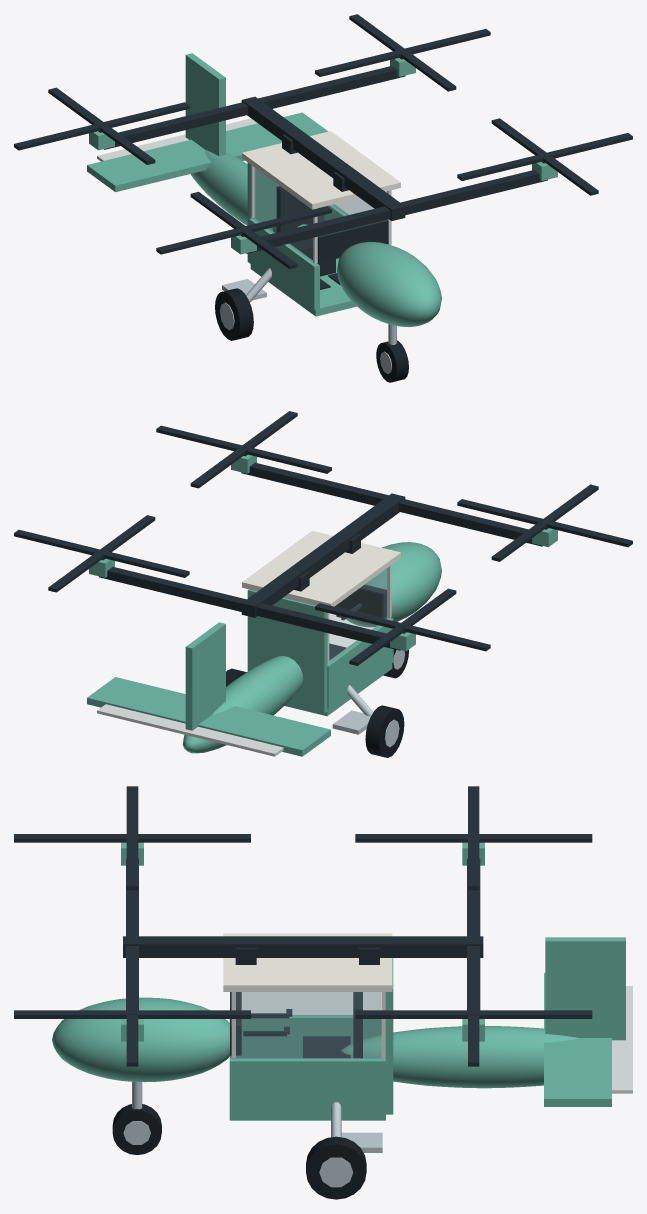
The model's file is multirotor.glb.
3 views of the same model, one above another, from view 1: azimuth 30°, elevation 25°; view 2: azimuth 150°, elevation 25°; view 3: azimuth 270°, elevation 25° (orthographic). The views are drawn at different scales.
Visible parts, largest first — view 1: aircraft-blade (×8), aircraft-rotor-arm (×2), aircraft-nose, aircraft-stabilizer, aircraft-roof, multirotor, aircraft-rotor-spine, aircraft-fin, aircraft-tail, aircraft-side, aircraft-window, aircraft-panel (+5 smaller); view 2: aircraft-blade (×8), aircraft-rotor-arm (×2), aircraft-stabilizer, aircraft-bulkhead, aircraft-roof, multirotor, aircraft-tail, aircraft-rotor-spine, aircraft-fin, aircraft-nose, aircraft-side, aircraft-window (+2 smaller); view 3: aircraft-blade (×8), aircraft-side (×2), aircraft-window (×2), aircraft-nose, aircraft-tail, aircraft-fin, multirotor, aircraft-rotor-spine, aircraft-roof, aircraft-stabilizer, aircraft-rotor-arm (×2), aircraft-elevator-hinge (+4 smaller).
Part boxes in pixels (bbox=[...]): aircraft-blade (×8): bbox=[14, 14, 632, 268]; aircraft-rotor-arm (×2): bbox=[104, 66, 547, 253]; aircraft-nose: bbox=[337, 241, 441, 327]; aircraft-stabilizer: bbox=[87, 112, 328, 192]; aircraft-roof: bbox=[242, 131, 400, 209]; multirotor: bbox=[215, 165, 408, 382]; aircraft-rotor-spine: bbox=[241, 96, 405, 220]; aircraft-fin: bbox=[185, 53, 225, 156]; aircraft-tail: bbox=[190, 149, 307, 232]; aircraft-side: bbox=[249, 218, 319, 309]; aircraft-window: bbox=[254, 167, 312, 261]; aircraft-panel: bbox=[317, 220, 388, 262]; aircraft-blade (×8): bbox=[14, 411, 632, 665]; aircraft-rotor-arm (×2): bbox=[99, 462, 542, 650]; aircraft-stabilizer: bbox=[87, 677, 330, 756]; aircraft-bulkhead: bbox=[247, 589, 327, 713]; aircraft-roof: bbox=[242, 531, 400, 606]; multirotor: bbox=[226, 565, 408, 757]; aircraft-tail: bbox=[182, 656, 303, 753]; aircraft-rotor-spine: bbox=[241, 493, 405, 617]; aircraft-fin: bbox=[185, 622, 225, 730]; aircraft-nose: bbox=[346, 542, 441, 627]; aircraft-side: bbox=[327, 618, 393, 709]; aircraft-window: bbox=[329, 568, 388, 662]; aircraft-blade (×8): bbox=[14, 786, 592, 1066]; aircraft-side (×2): bbox=[229, 1015, 385, 1112]; aircraft-window (×2): bbox=[234, 992, 380, 1058]; aircraft-nose: bbox=[52, 997, 229, 1082]; aircraft-tail: bbox=[341, 1026, 578, 1088]; aircraft-fin: bbox=[545, 937, 625, 1040]; multirotor: bbox=[112, 992, 385, 1199]; aircraft-rotor-spine: bbox=[123, 936, 483, 957]; aircraft-roof: bbox=[223, 933, 392, 991]; aircraft-stabilizer: bbox=[544, 973, 611, 1106]; aircraft-rotor-arm (×2): bbox=[126, 858, 480, 1010]; aircraft-elevator-hinge: bbox=[612, 986, 632, 1093].
Bounding box in the file's own units: 6.9 × 2.64 × 6.53.
10 materials, 1 textured.
